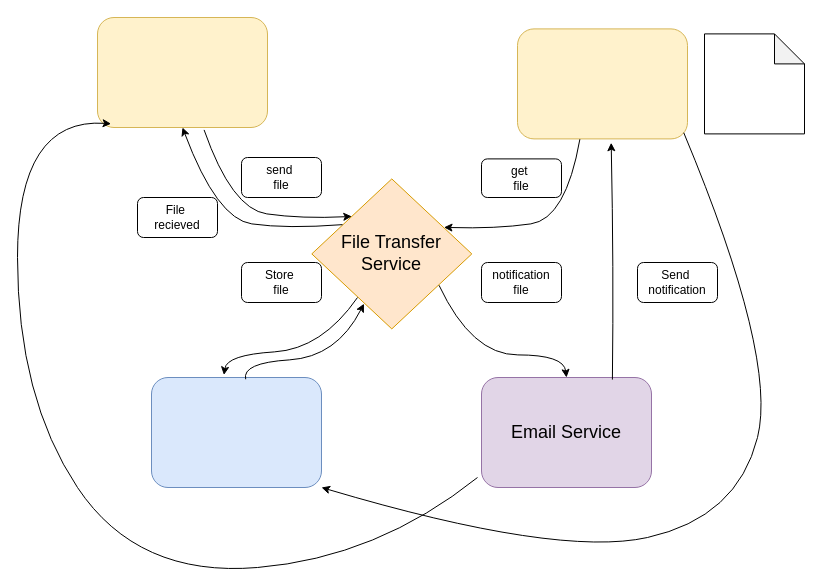
This 822x586 diagram has some shape labels left out. The shapes that lost their labels are listed below. From the top down, each one's centre as x and y in pixels, then its label:
At (x=182, y=72): "Sender".
At (x=602, y=83): "Recepient".
At (x=754, y=83): "User downloads file directly from Cloud using WebApp".
At (x=236, y=432): "Cloud(FileStorage)".
